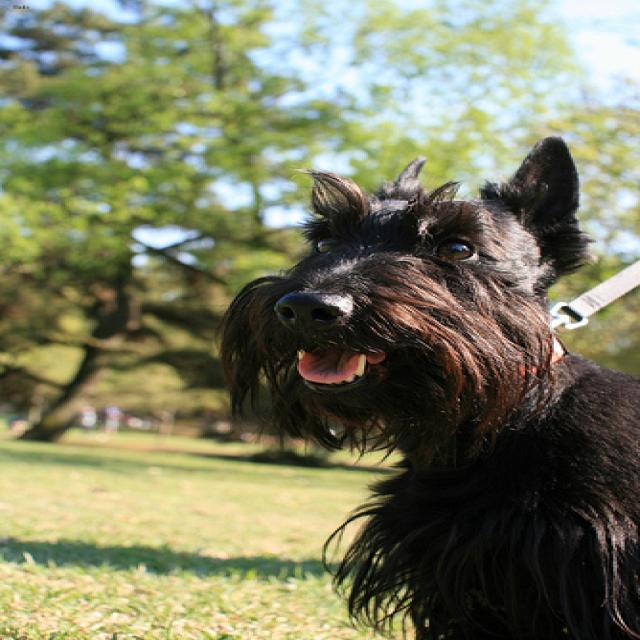dog-scottish_terrier: (205, 132, 636, 637)
